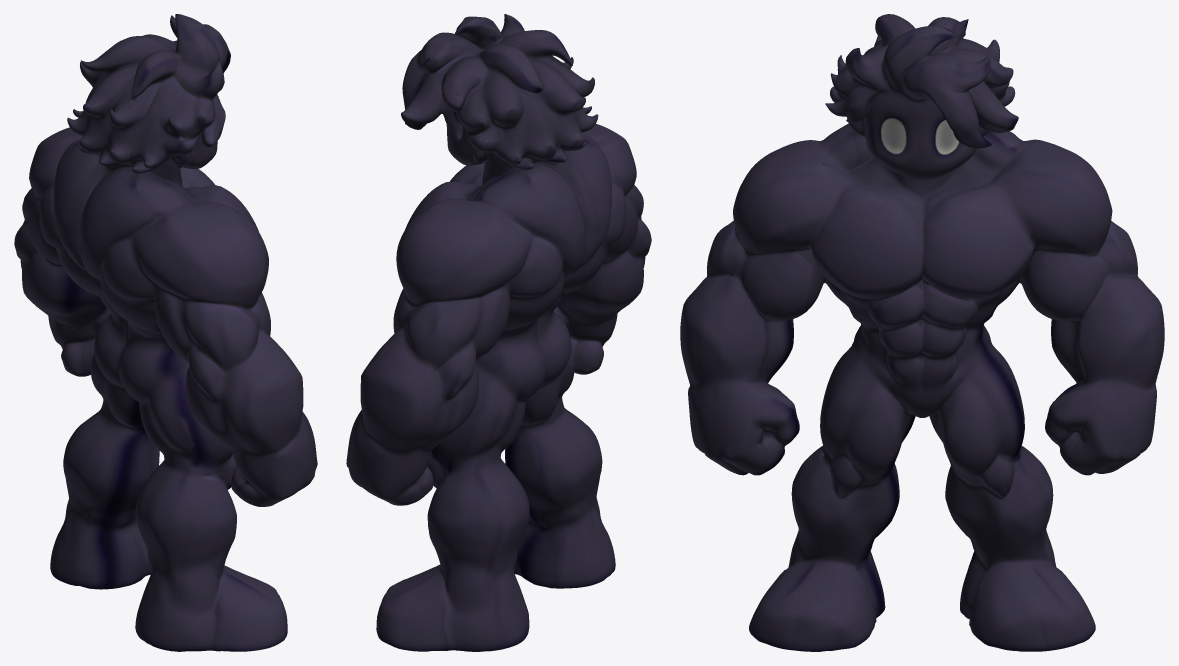
File: shadow_muscle.fbx
The picture shows the model from 3 angles, left to right: view 1: azimuth 30°, elevation 25°; view 2: azimuth 150°, elevation 25°; view 3: azimuth 270°, elevation 25°; orthographic projection. The views are drawn at different scales.
Visible parts, largest first — view 1: tripo_node_a918ea35; view 2: tripo_node_a918ea35; view 3: tripo_node_a918ea35.
Boxes of the visible parts, x1=… form: tripo_node_a918ea35: x1=14, y1=14, x2=317, y2=651; tripo_node_a918ea35: x1=346, y1=14, x2=651, y2=651; tripo_node_a918ea35: x1=680, y1=14, x2=1164, y2=651.
Bounding box in the file's own units: 30.66 × 97.9 × 71.04.
1 material, 1 textured.
